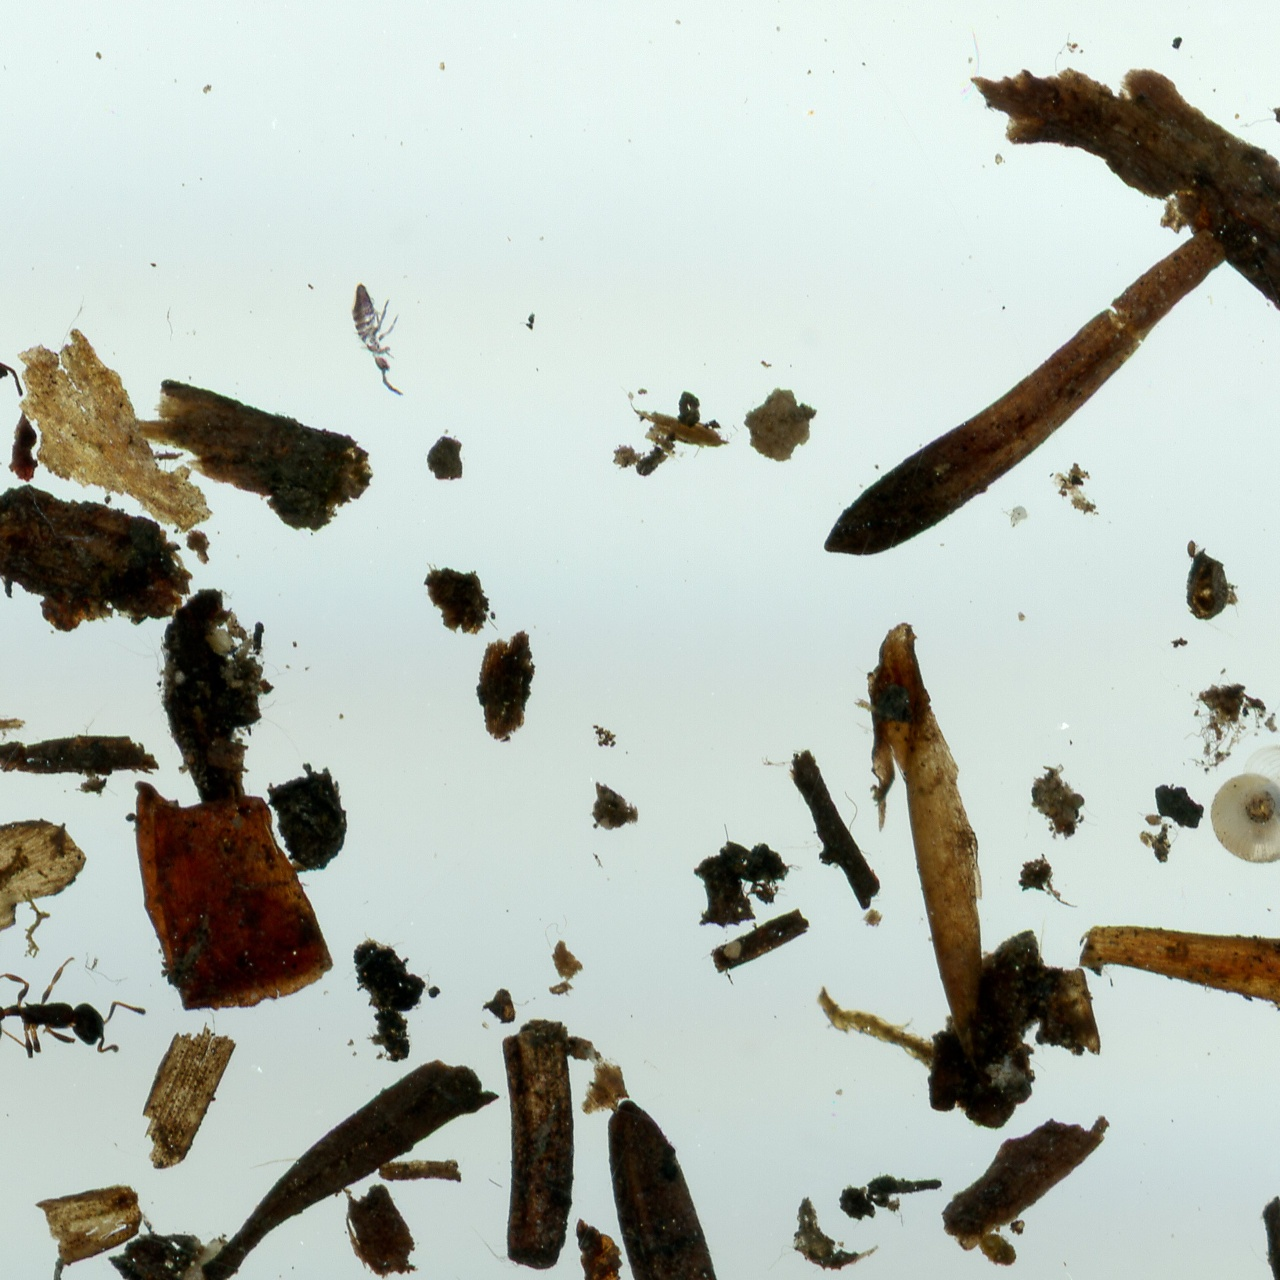arthropod: (0, 956, 148, 1061), (335, 272, 425, 407), (1203, 740, 1280, 867), (574, 1213, 626, 1280)
